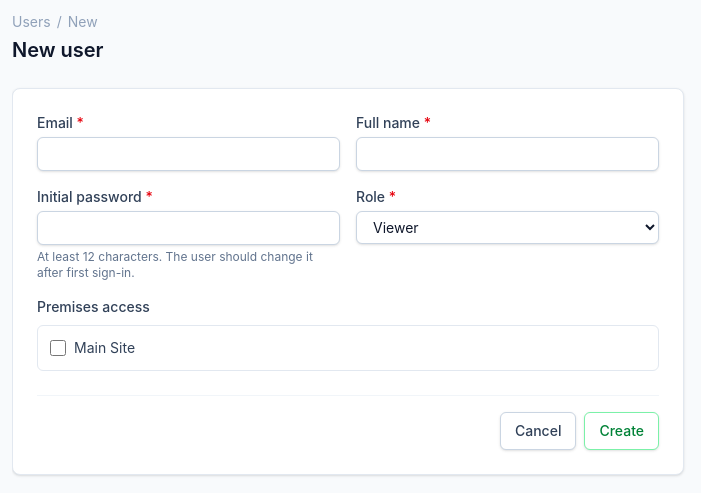
Test: UserFormPage — creating › hides the premises picker for an admin account
Select "Admin" in the dropdown labelled "Role *" at (508, 228), box [356,211,659,244]
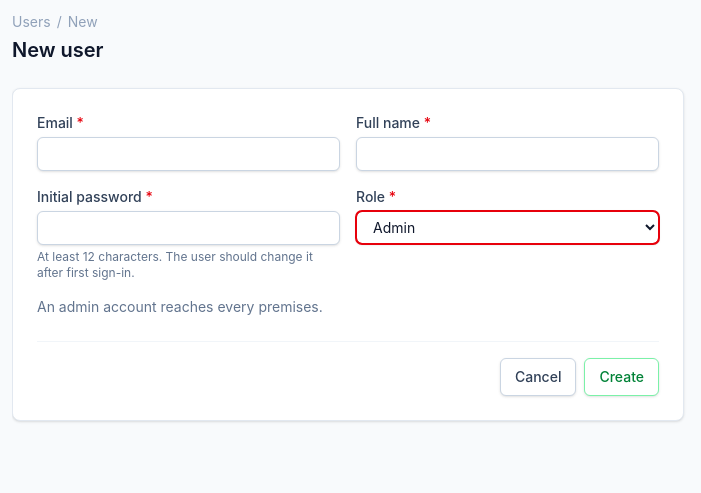
Result: the text "An admin account reaches every premises." is shown at [37,298,323,315]
Result: the label labelled "Main Site" is gone
